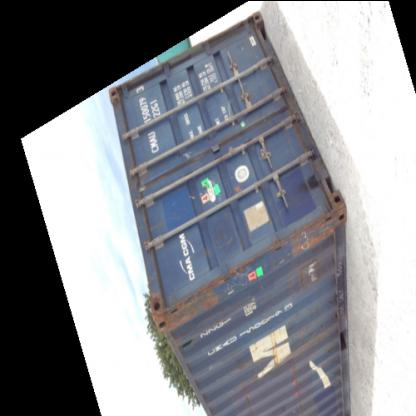Damage: (162, 249, 267, 328), (266, 211, 336, 252), (290, 258, 330, 292), (284, 356, 306, 416), (324, 286, 346, 344), (228, 340, 266, 370), (331, 352, 349, 412), (233, 374, 254, 415), (290, 170, 322, 196), (268, 326, 278, 367), (177, 336, 200, 352), (178, 144, 197, 161), (184, 188, 198, 202)
